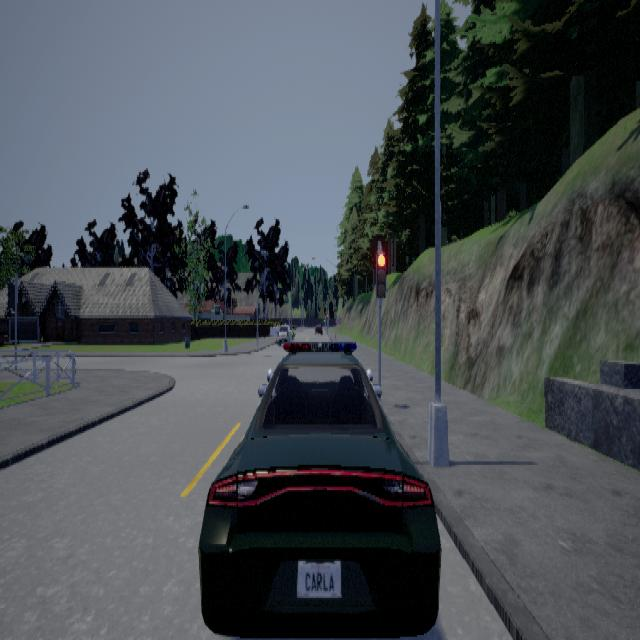red_light: (375, 242, 385, 306)
vehicle: (197, 323, 441, 637), (275, 322, 293, 345)
